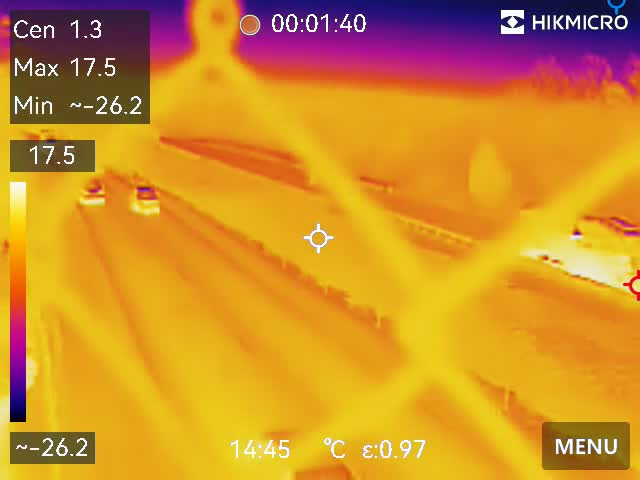vehicle: (127, 179, 164, 216), (72, 171, 108, 205)
